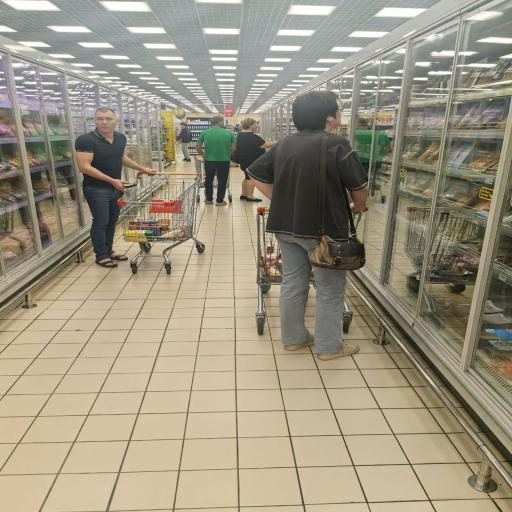shopping_cart: (254, 205, 370, 336), (117, 172, 206, 275), (404, 205, 481, 294), (194, 155, 233, 203)
